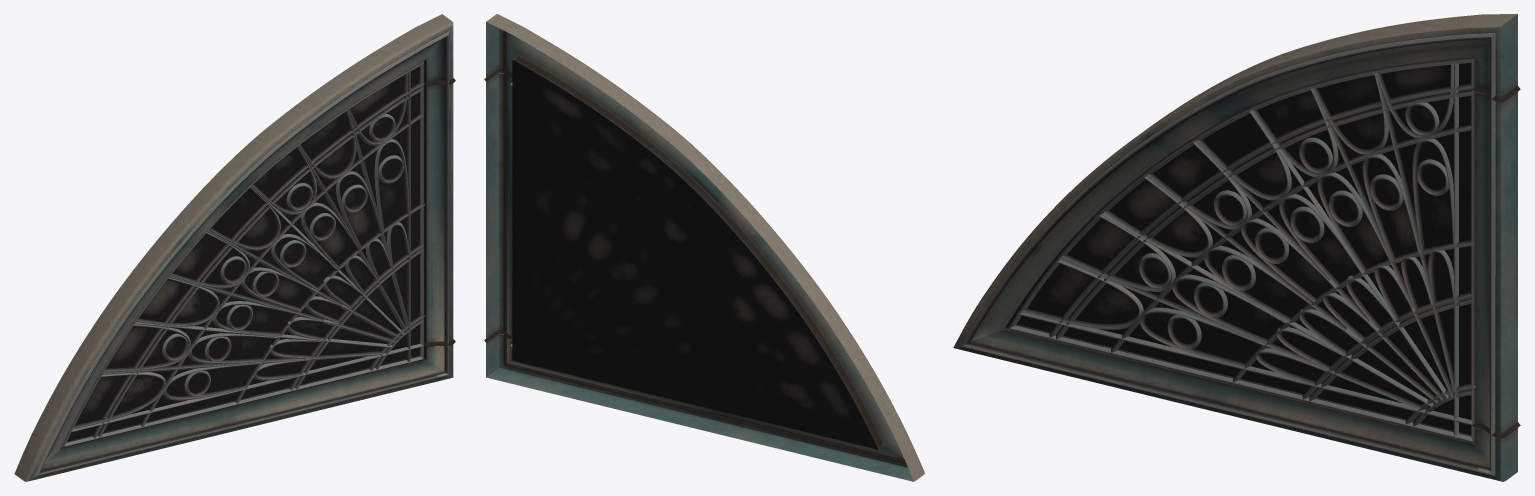
The model's file is SM_WindowsOrnaments.FBX.
3 renders of one model, left to right at view 1: azimuth 30°, elevation 25°; view 2: azimuth 150°, elevation 25°; view 3: azimuth 330°, elevation 25°, orthographic. The views are drawn at different scales.
Parts seen in each view (by area): view 1: SM_WindowsOrnaments; view 2: SM_WindowsOrnaments; view 3: SM_WindowsOrnaments.
Part boxes in pixels (x1,y1,x2,y2): SM_WindowsOrnaments: [14, 14, 455, 481]; SM_WindowsOrnaments: [484, 14, 924, 481]; SM_WindowsOrnaments: [953, 14, 1520, 481].
Size of the model in its own units: 1087 by 59.2 by 859.
